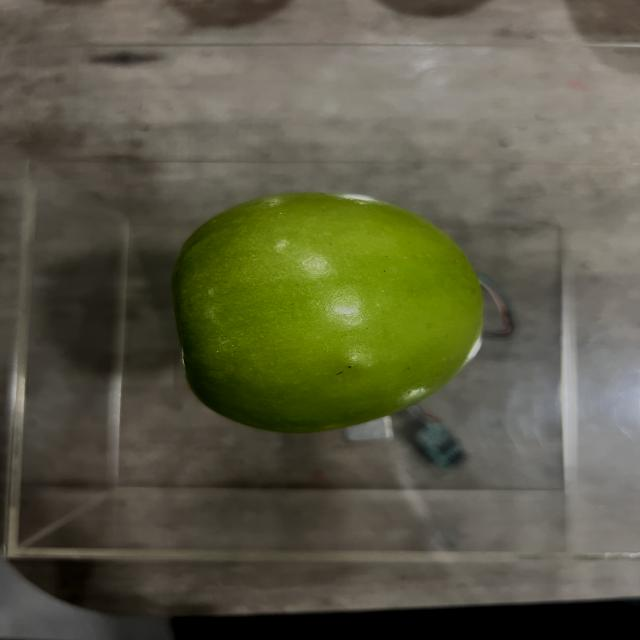green apple: (172, 192, 486, 432)
